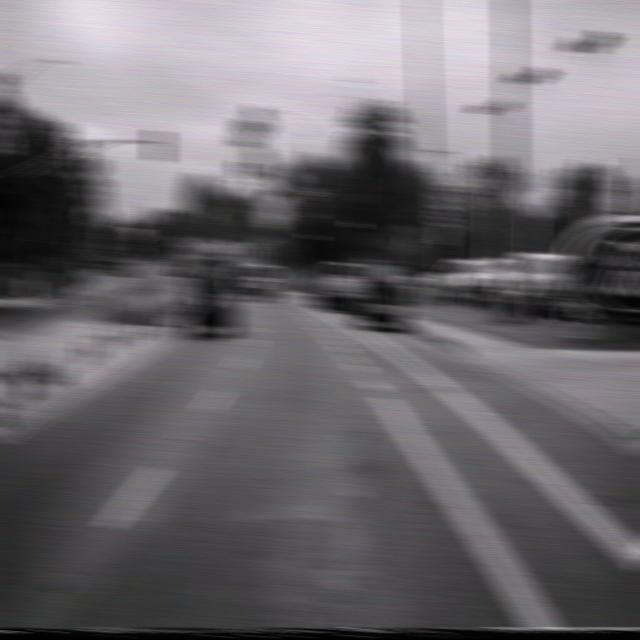speedLimit35: (430, 183, 460, 229)
